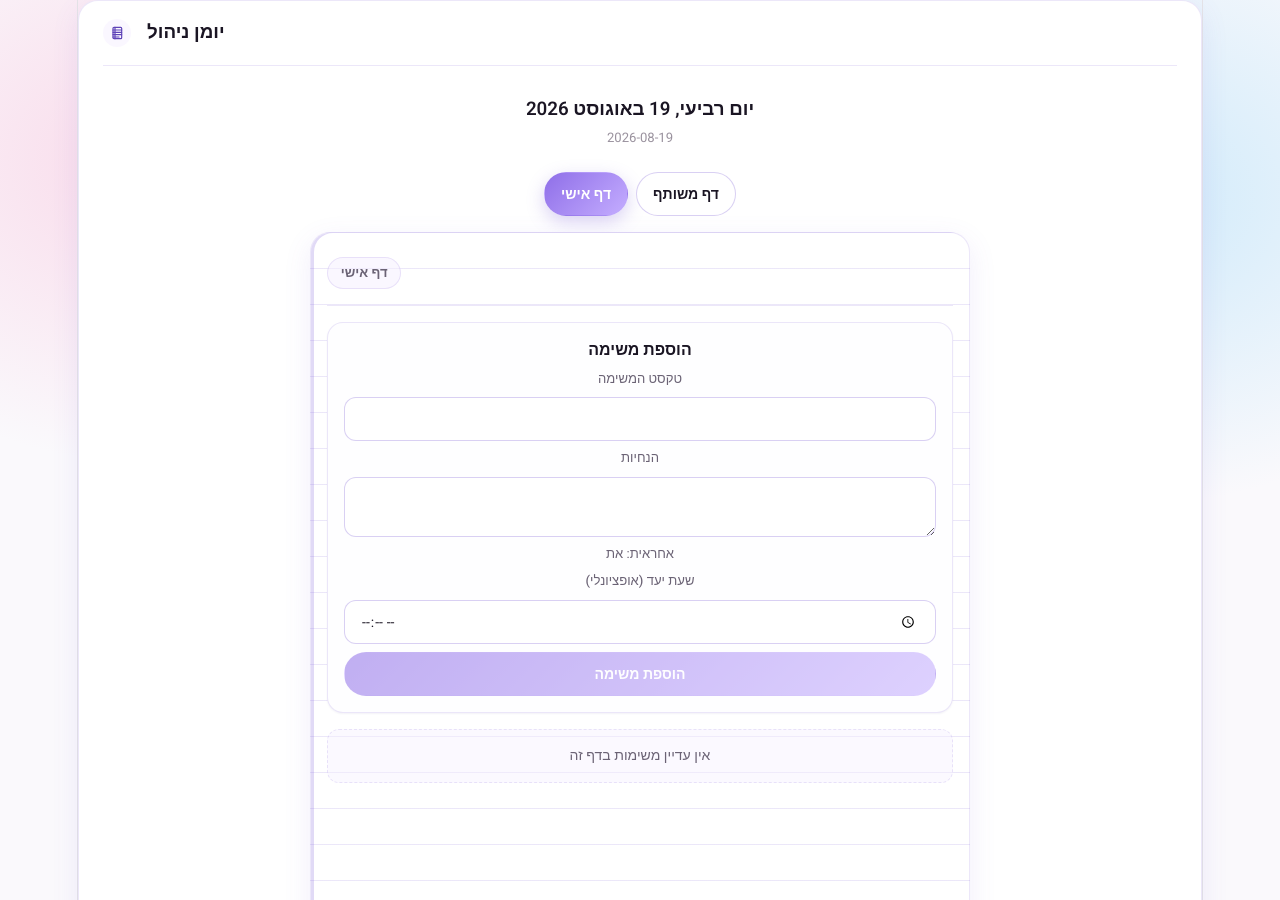
ManagementJournalSection J2A › handles journal_page_exists without leaking page or participant data
The image size is (1280, 900).
Click the radio button labelled "דף משותף". click: (686, 194)
box: [636, 172, 736, 216]
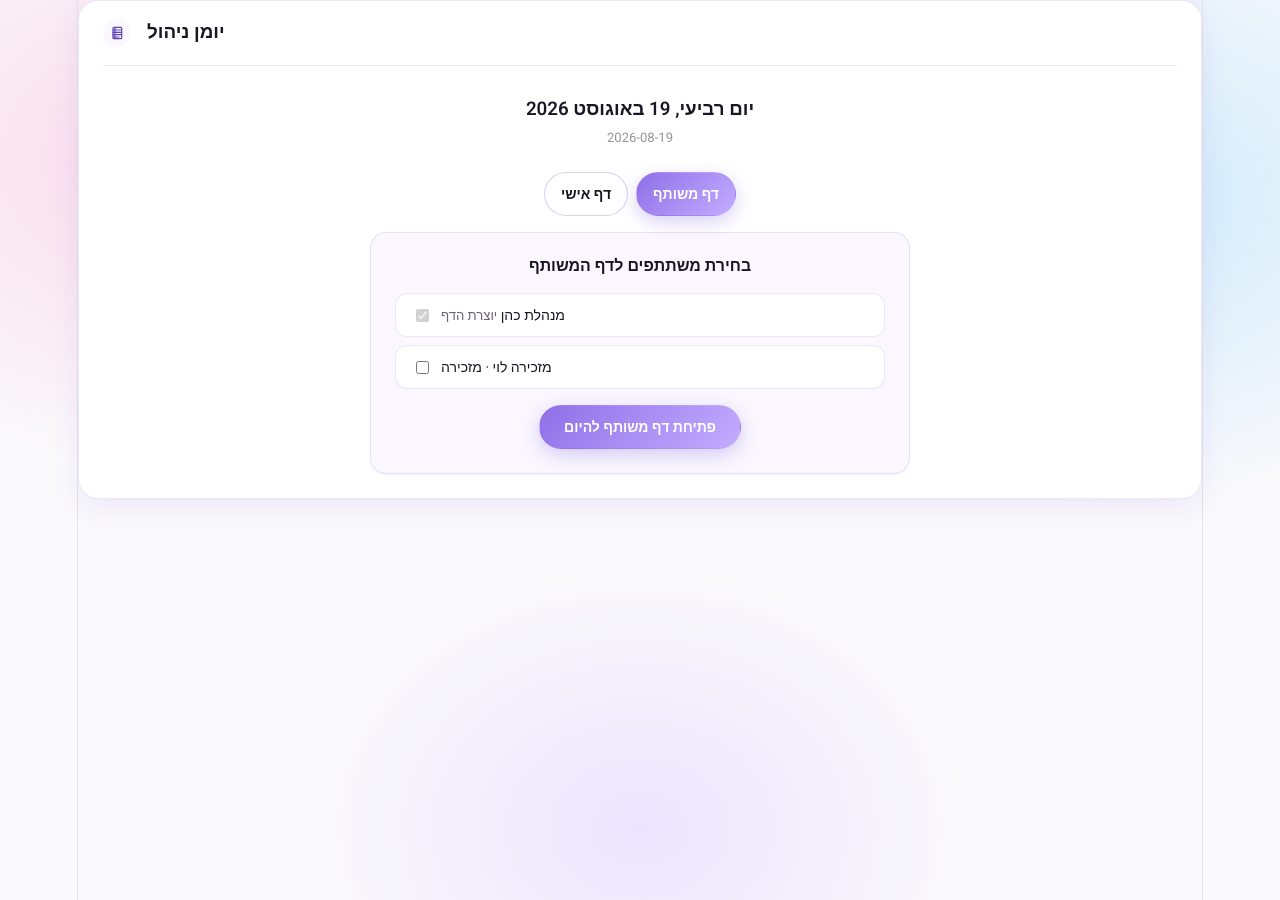
Click the button "פתיחת דף משותף להיום". click: (640, 427)
box: [539, 405, 741, 449]
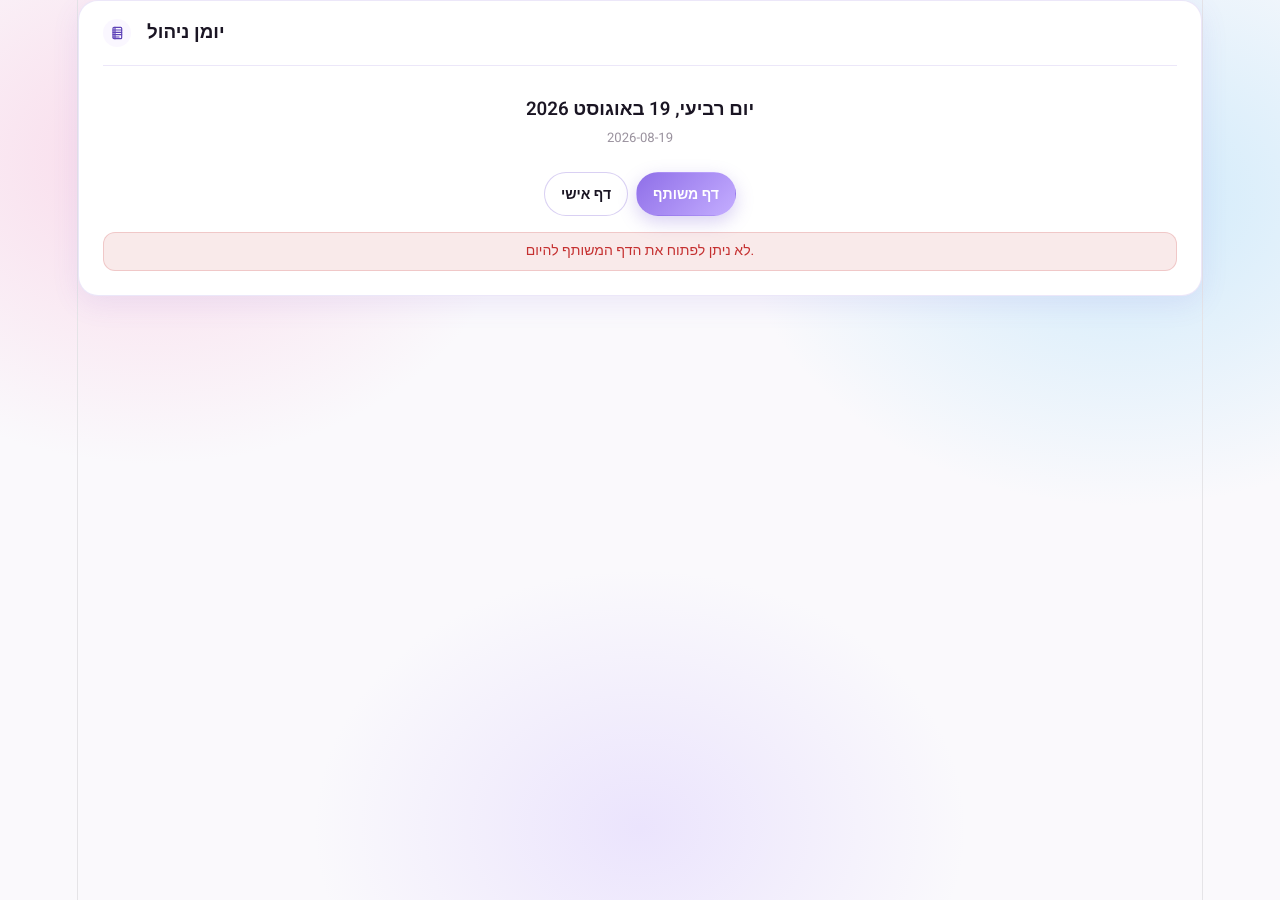
Check: the message with test id "journal-page-exists-denial" reads "לא ניתן לפתוח את הדף המשותף להיום.", box [526, 240, 754, 262]
Check: the text "מזכירה לוי" is gone
